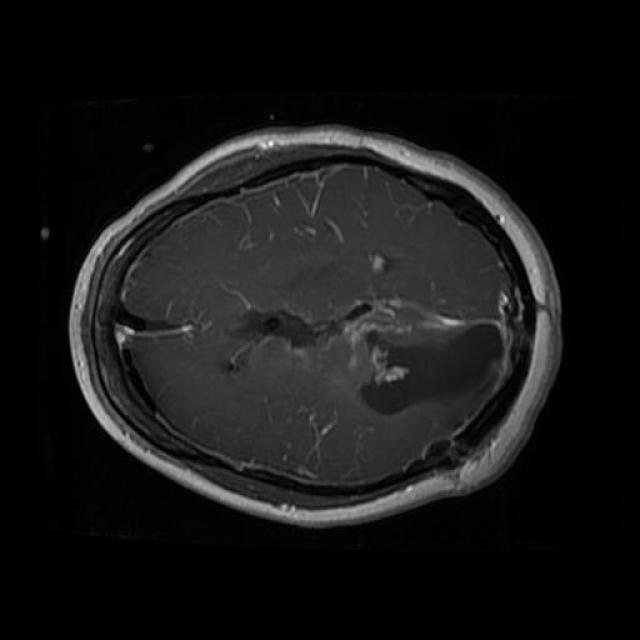Glioma: (363, 319, 504, 427), (228, 300, 343, 371)
